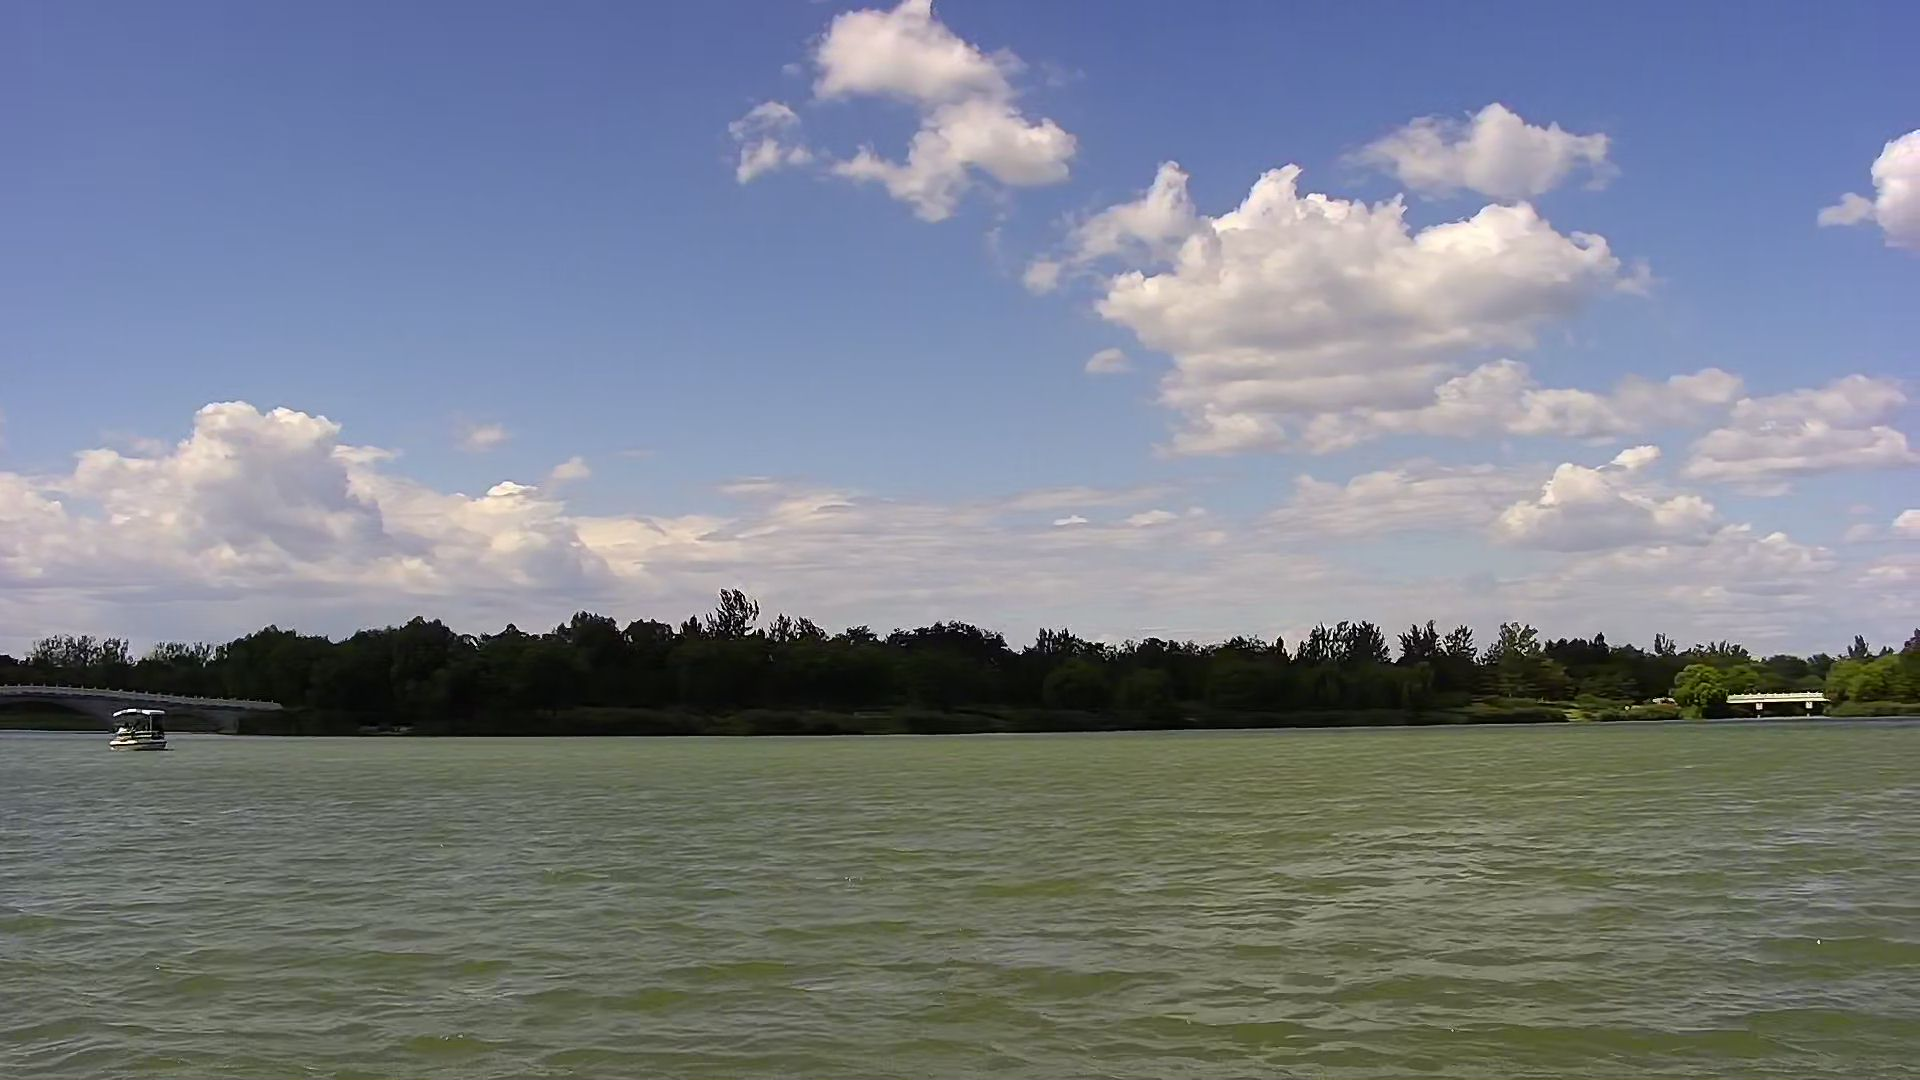boat: (107, 700, 178, 752)
bridge: (1, 679, 289, 740), (1725, 686, 1832, 725)
